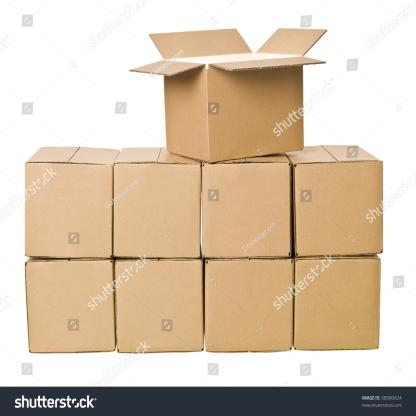box: (208, 66, 306, 165), (294, 159, 384, 257), (24, 162, 112, 259), (203, 163, 292, 258), (116, 258, 205, 352), (115, 163, 201, 260), (204, 260, 294, 352), (26, 260, 115, 353), (296, 256, 380, 350)
